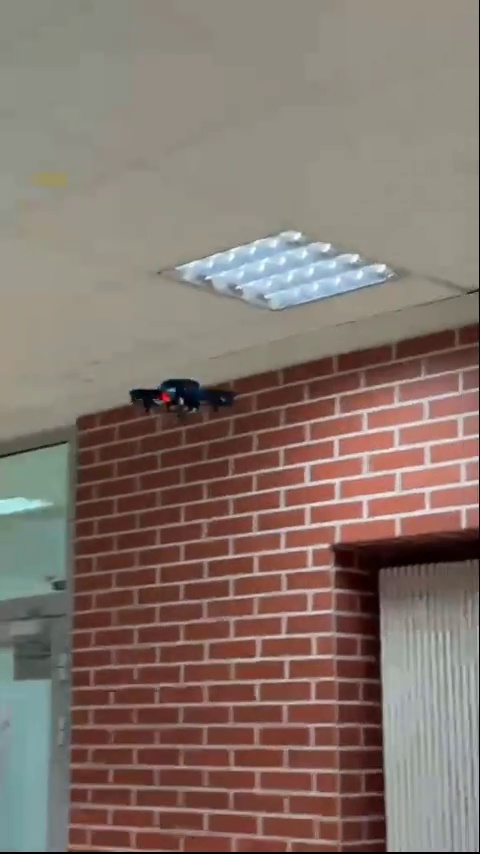drone: (130, 374, 235, 427)
